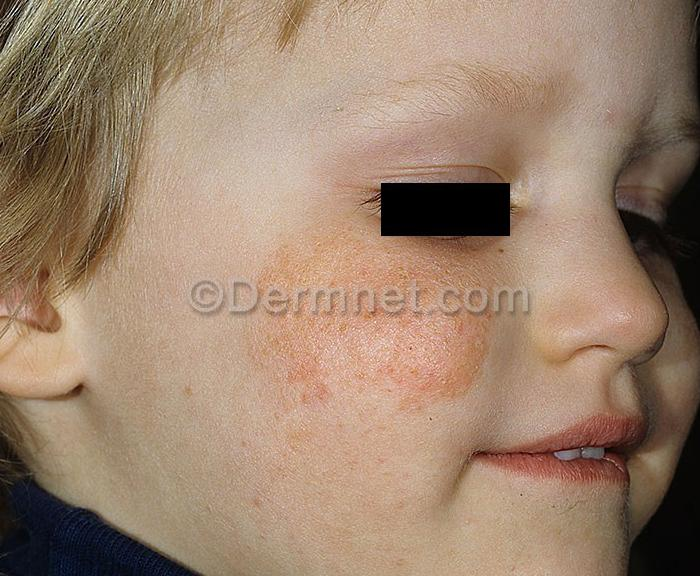eritema 1: (245, 231, 513, 401)
